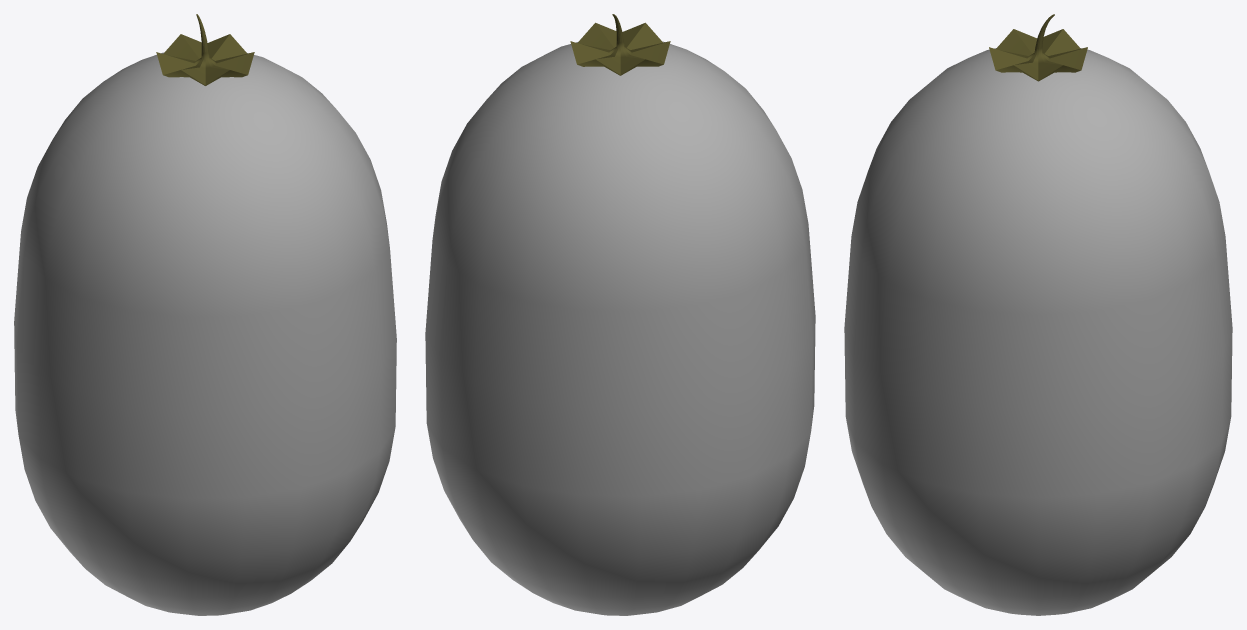
The model's file is Sandia_uvs.fbx.
3 views of the same model, side by side, from view 1: azimuth 30°, elevation 25°; view 2: azimuth 150°, elevation 25°; view 3: azimuth 270°, elevation 25° (orthographic).
Visible parts, largest first — view 1: Sandia; view 2: Sandia; view 3: Sandia.
Boxes of the visible parts, box(x1,y1,x2,y2) form: Sandia: box(14, 14, 396, 615); Sandia: box(425, 14, 815, 615); Sandia: box(844, 14, 1232, 615).
Bounding box in the file's own units: 20.96 × 34.92 × 20.96.
